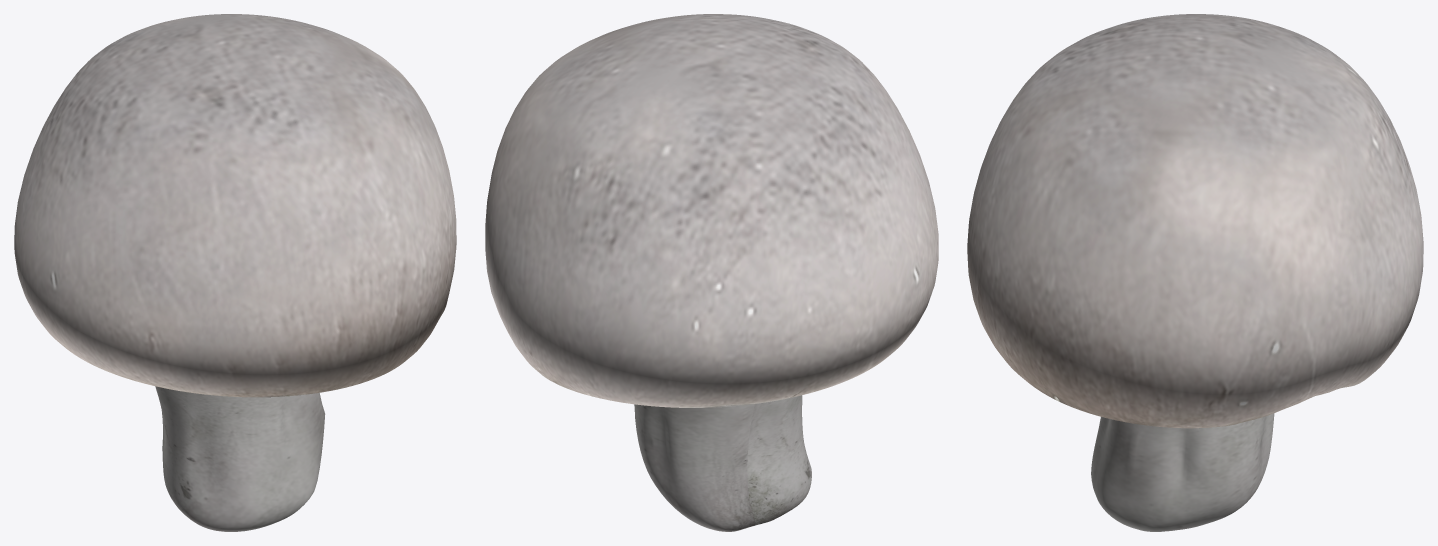
File: SENE_16.fbx
3 renders of one model, left to right at view 1: azimuth 30°, elevation 25°; view 2: azimuth 150°, elevation 25°; view 3: azimuth 270°, elevation 25°, orthographic. The views are drawn at different scales.
Visible parts, largest first — view 1: SENE_16; view 2: SENE_16; view 3: SENE_16.
Part boxes in pixels (box(x1,y1,x2,y2)): SENE_16: box(14, 14, 456, 531); SENE_16: box(485, 14, 938, 531); SENE_16: box(967, 14, 1423, 531).
Bounding box in the file's own units: 50.14 × 58.57 × 49.87.
Materials: 1 (1 with a texture image).
